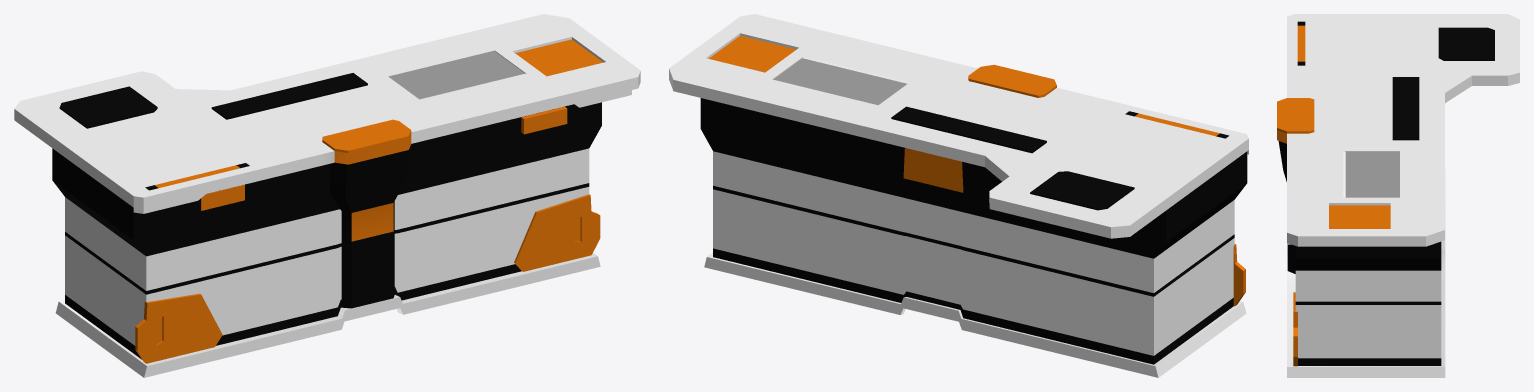
Rendered from SM_desk01.fbx.
3 renders of one model, left to right at view 1: azimuth 30°, elevation 25°; view 2: azimuth 150°, elevation 25°; view 3: azimuth 270°, elevation 25°, orthographic. The views are drawn at different scales.
Parts seen in each view (by area): view 1: desk_lp; view 2: desk_lp; view 3: desk_lp.
Part boxes in pixels (<box>): desk_lp: <box>14,14,640,377</box>; desk_lp: <box>669,14,1248,377</box>; desk_lp: <box>1277,14,1519,377</box>.
Size of the model in its own units: 278 by 95.97 by 128.
Materials: 1 (1 with a texture image).
